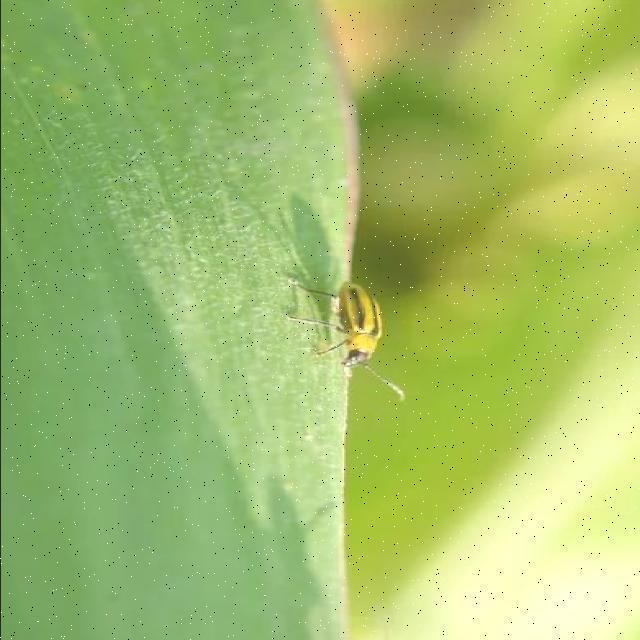trips: (298, 281, 406, 378)
